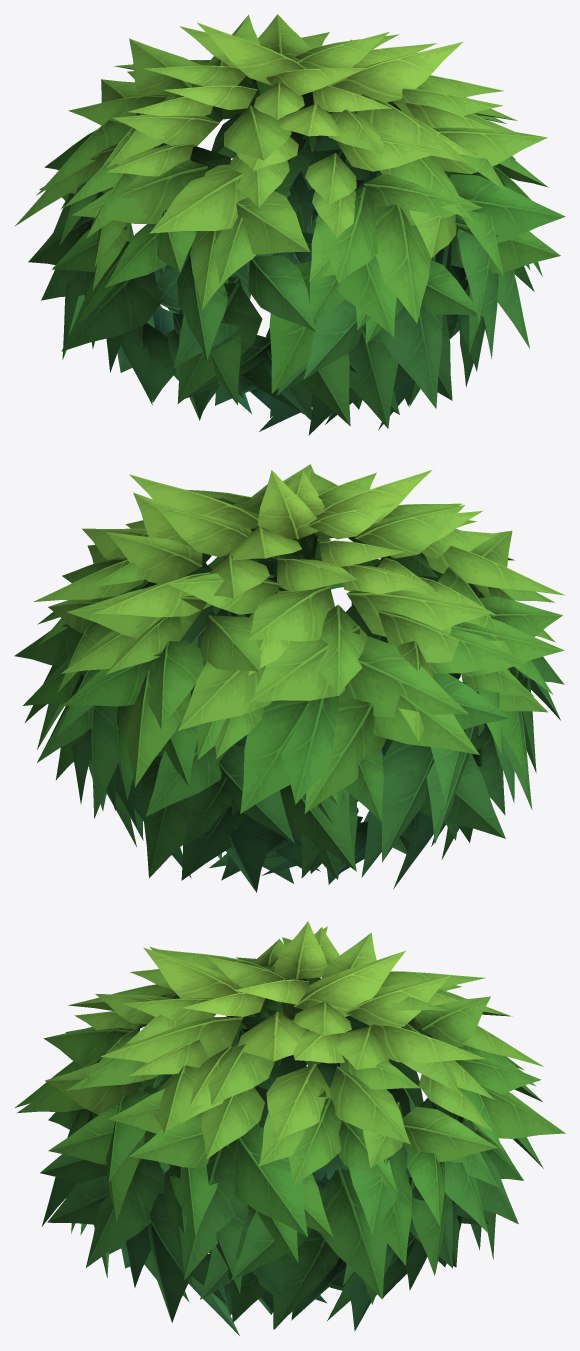
File: serratebush_v2.glb
3 renders of one model, top to bottom at view 1: azimuth 30°, elevation 25°; view 2: azimuth 150°, elevation 25°; view 3: azimuth 270°, elevation 25°, orthographic. The views are drawn at different scales.
Visible parts, largest first — view 1: serratebush_v2_leaves_LOD0; view 2: serratebush_v2_leaves_LOD0; view 3: serratebush_v2_leaves_LOD0.
Boxes of the visible parts, x1=… form: serratebush_v2_leaves_LOD0: x1=14, y1=14, x2=565, y2=435; serratebush_v2_leaves_LOD0: x1=14, y1=464, x2=565, y2=892; serratebush_v2_leaves_LOD0: x1=15, y1=921, x2=565, y2=1335.
Size of what is drawn, in the model's own units: 1.5 by 1.03 by 1.59.
Materials: 1 (1 with a texture image).
